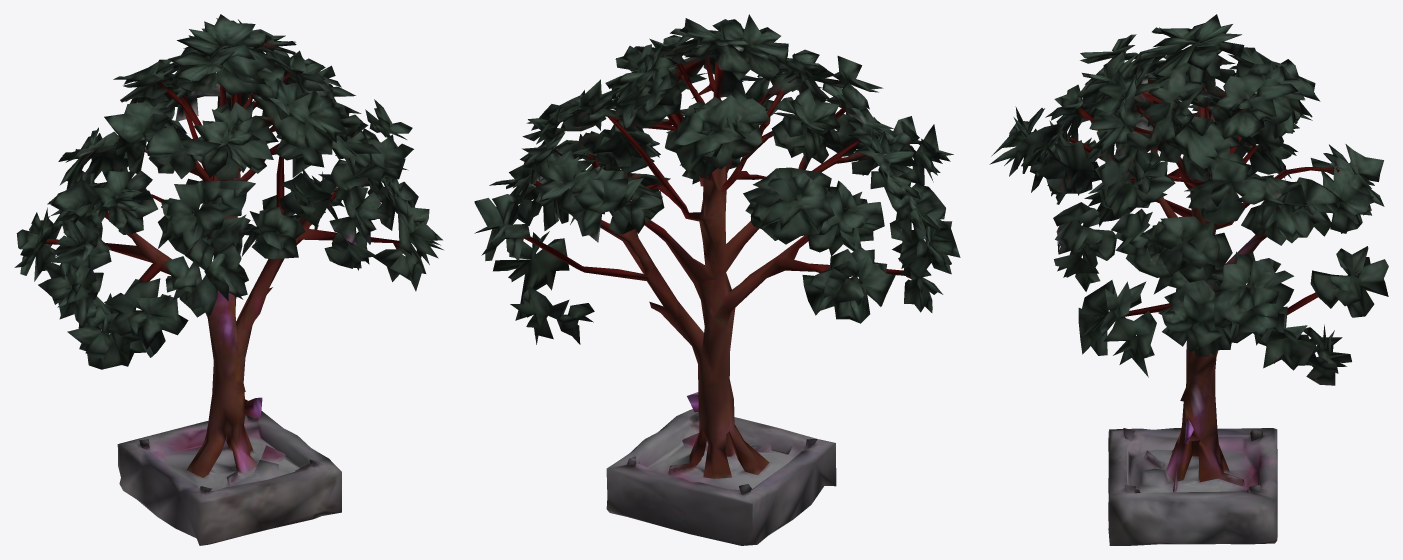
Rendered from 11_tree.glb.
The picture shows the model from 3 angles, left to right: view 1: azimuth 30°, elevation 25°; view 2: azimuth 150°, elevation 25°; view 3: azimuth 270°, elevation 25°; orthographic projection. The views are drawn at different scales.
Parts seen in each view (by area): view 1: TREE_WITH_PLANTER; view 2: TREE_WITH_PLANTER; view 3: TREE_WITH_PLANTER.
Part boxes in pixels (box(x1,y1,x2,y2)): TREE_WITH_PLANTER: box(14, 14, 443, 545); TREE_WITH_PLANTER: box(474, 14, 960, 545); TREE_WITH_PLANTER: box(989, 14, 1388, 545).
Size of the model in its own units: 1.96 by 2.2 by 1.66.
Materials: 1 (1 with a texture image).
